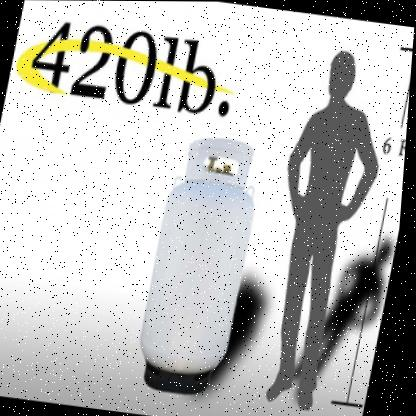gas-tank: (125, 114, 286, 411)
